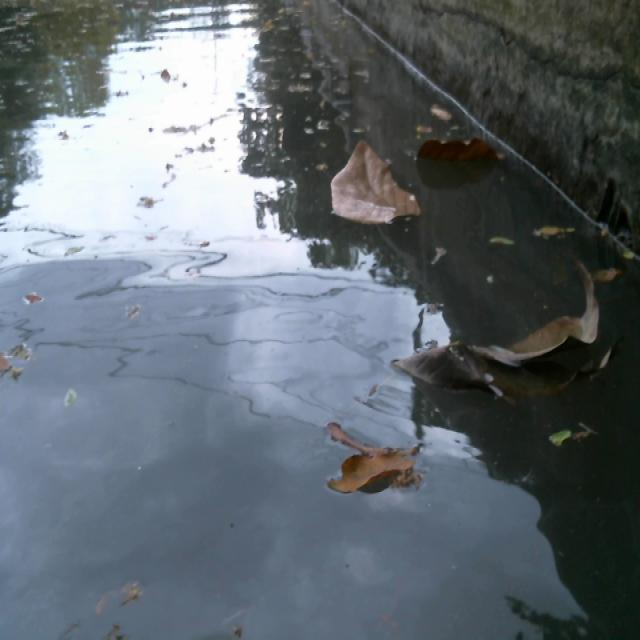Big-leaf: (388, 263, 609, 402), (322, 413, 420, 518), (315, 146, 415, 235), (412, 136, 506, 170)
Small-leaf: (537, 224, 595, 259), (550, 416, 592, 455), (490, 228, 525, 258), (427, 96, 453, 120), (425, 237, 445, 263)
